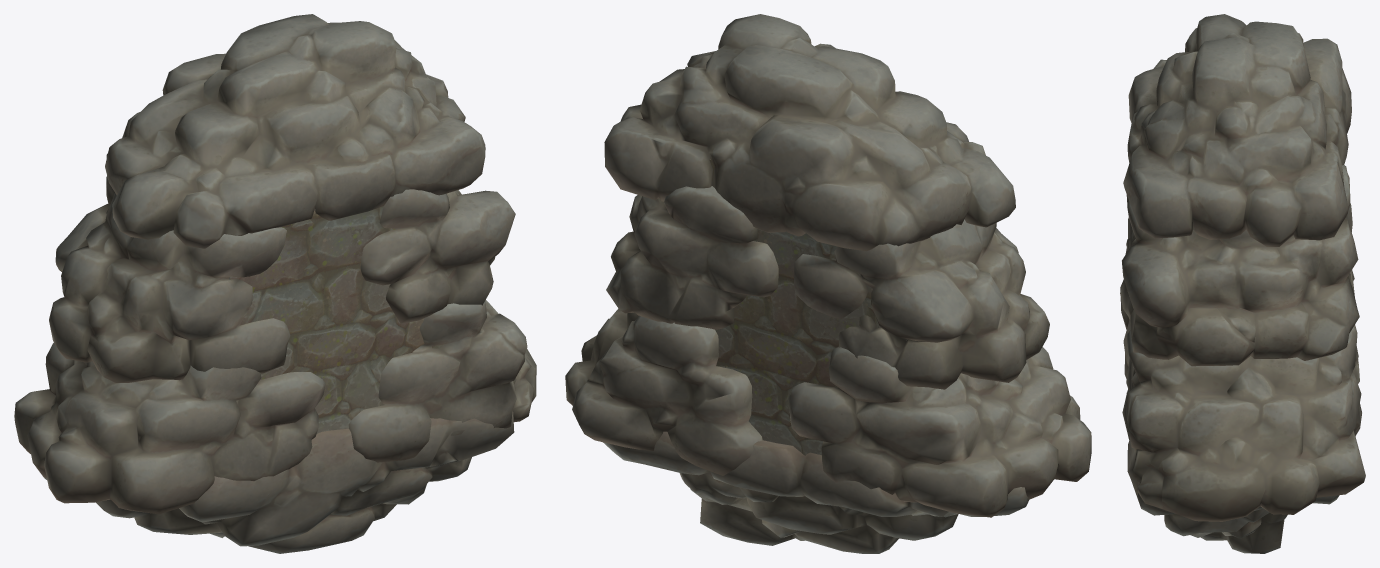
The model's file is MSH_fwOF_Ruins_Wall_Half_Low_Broken_01.fbx.
The picture shows the model from 3 angles, left to right: view 1: azimuth 30°, elevation 25°; view 2: azimuth 150°, elevation 25°; view 3: azimuth 270°, elevation 25°; orthographic projection.
Visible parts, largest first — view 1: MSH_fwOF_Ruins_Wall_Half_Low_Broken_01_LOD0, MSH_fwOF_Ruins_Wall_Half_Low_Broken_01_Base; view 2: MSH_fwOF_Ruins_Wall_Half_Low_Broken_01_LOD0, MSH_fwOF_Ruins_Wall_Half_Low_Broken_01_Base; view 3: MSH_fwOF_Ruins_Wall_Half_Low_Broken_01_LOD0.
Part boxes in pixels (x1,y1,x2,y2): MSH_fwOF_Ruins_Wall_Half_Low_Broken_01_LOD0: (14,14,536,553); MSH_fwOF_Ruins_Wall_Half_Low_Broken_01_Base: (229,206,443,433); MSH_fwOF_Ruins_Wall_Half_Low_Broken_01_LOD0: (565,14,1091,553); MSH_fwOF_Ruins_Wall_Half_Low_Broken_01_Base: (669,159,907,455); MSH_fwOF_Ruins_Wall_Half_Low_Broken_01_LOD0: (1120,14,1365,553).
Size of what is drawn, in the model's own units: 2.9 by 2.83 by 1.28.
